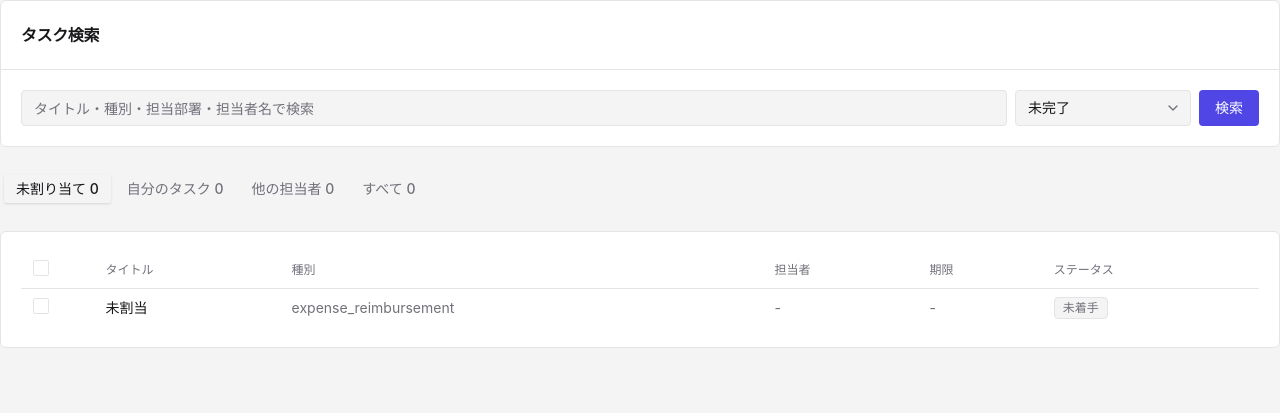
BackOfficeTaskListPage › shows the bulk bar with the two actions and the clear button only while rows are selected
Expected: the button "担当者を変更" is not shown
Click the checkbox named "未割当を選択" at (41, 306), box [33, 298, 49, 314]
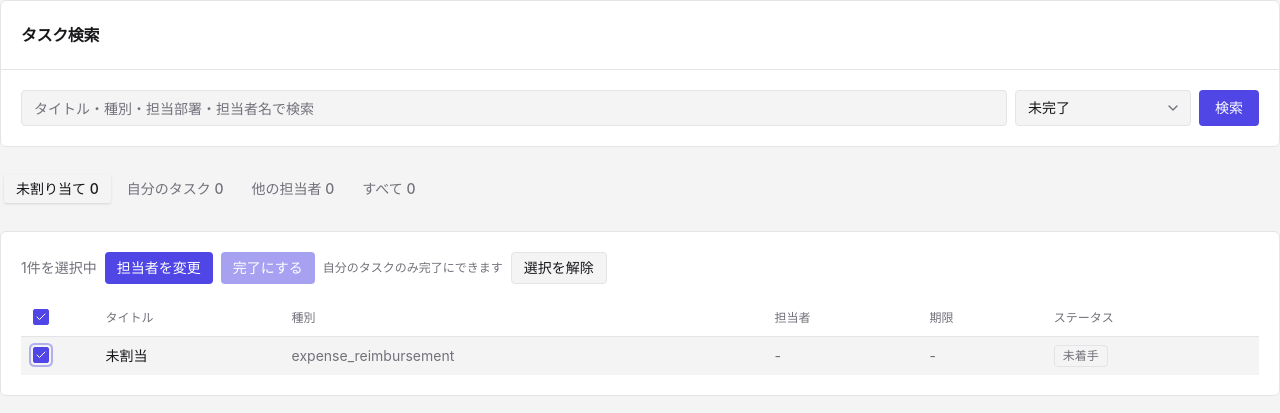
Result: the button "担当者を変更" is enabled at [105, 252, 213, 284]
Result: the button "完了にする" is disabled at [221, 252, 315, 284]
Result: the text "自分のタスクのみ完了にできます" is shown at [323, 260, 503, 276]
Click the button "選択を解除" at (559, 268), box [511, 252, 607, 284]
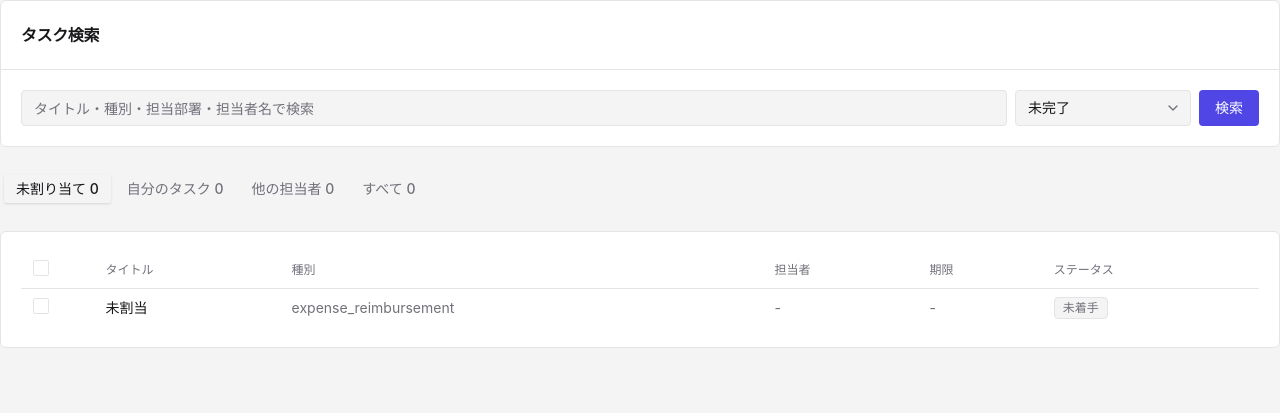
Result: the text "1件を選択中" is gone
